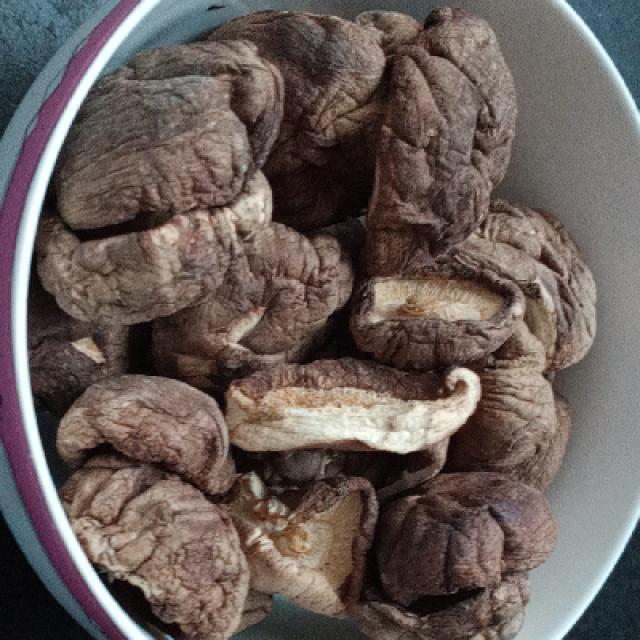Lentinus edodes: (50, 3, 596, 640)
